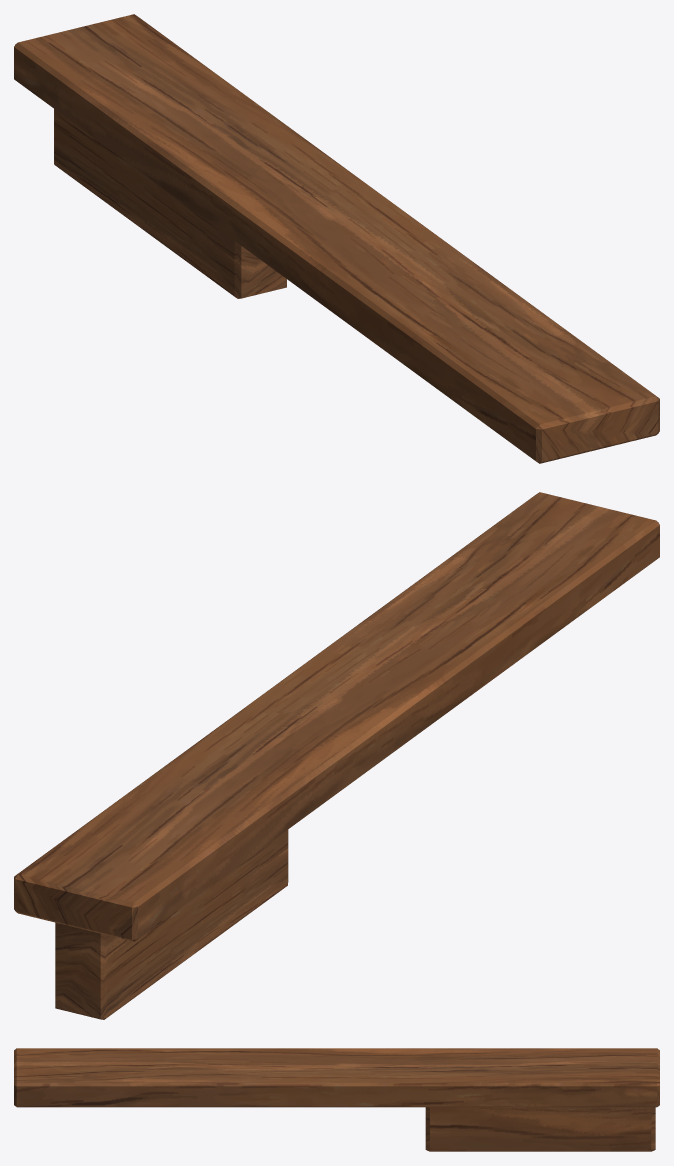
Rendered from Small_Platform.FBX.
The picture shows the model from 3 angles, top to bottom: view 1: azimuth 30°, elevation 25°; view 2: azimuth 150°, elevation 25°; view 3: azimuth 270°, elevation 25°; orthographic projection. The views are drawn at different scales.
Parts seen in each view (by area): view 1: Platform_Small001; view 2: Platform_Small001; view 3: Platform_Small001.
Boxes of the visible parts, x1,y1,x2,y2 form: Platform_Small001: [14, 14, 659, 463]; Platform_Small001: [14, 492, 659, 1019]; Platform_Small001: [14, 1048, 659, 1151].
Bounding box in the file's own units: 54.84 × 54.63 × 403.
